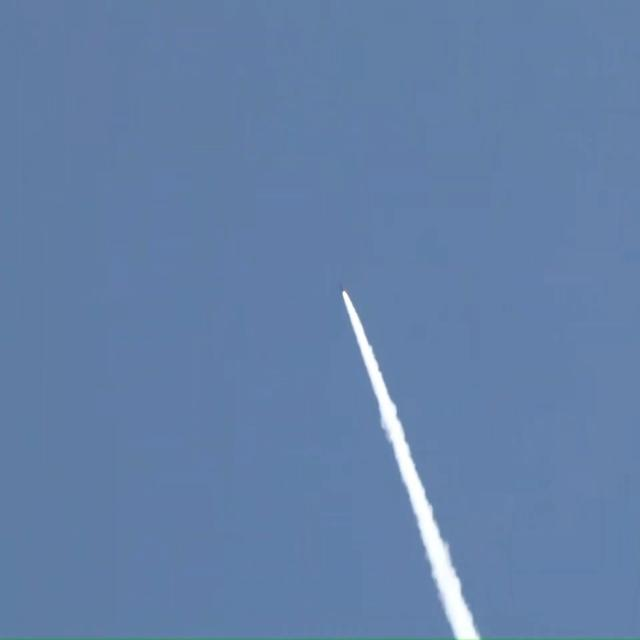Rocket: (340, 283, 344, 292)
